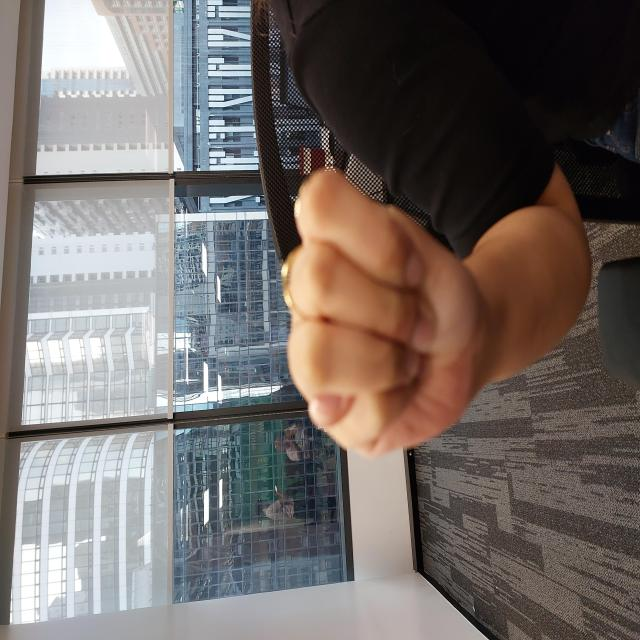M: (181, 278, 476, 493)
